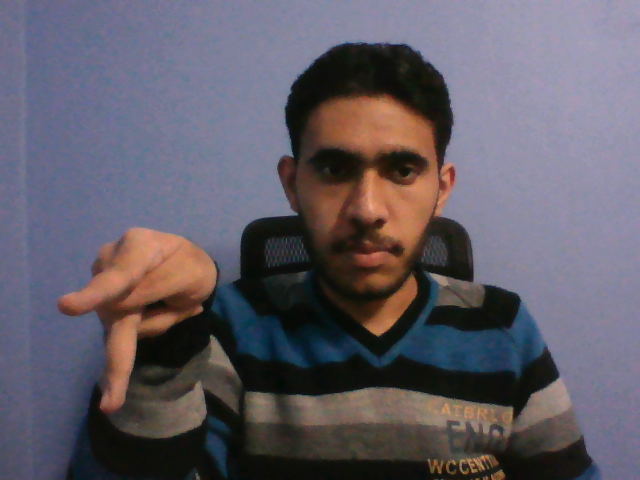P: (56, 224, 219, 412)
